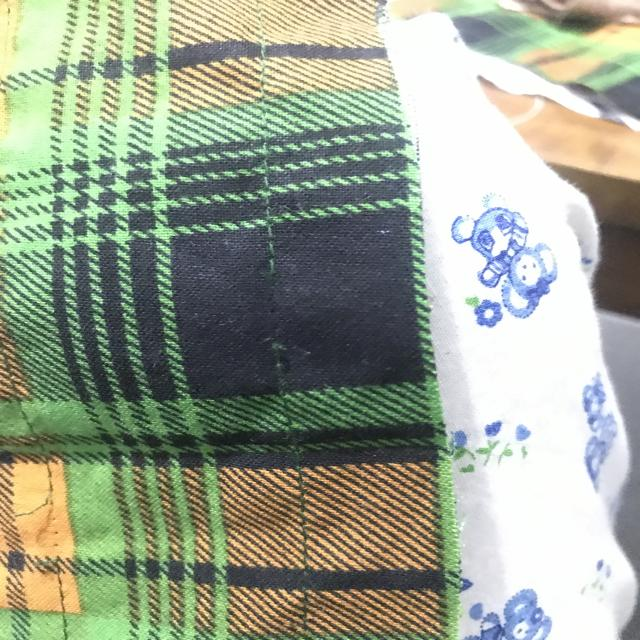broken: (248, 250, 298, 361)
